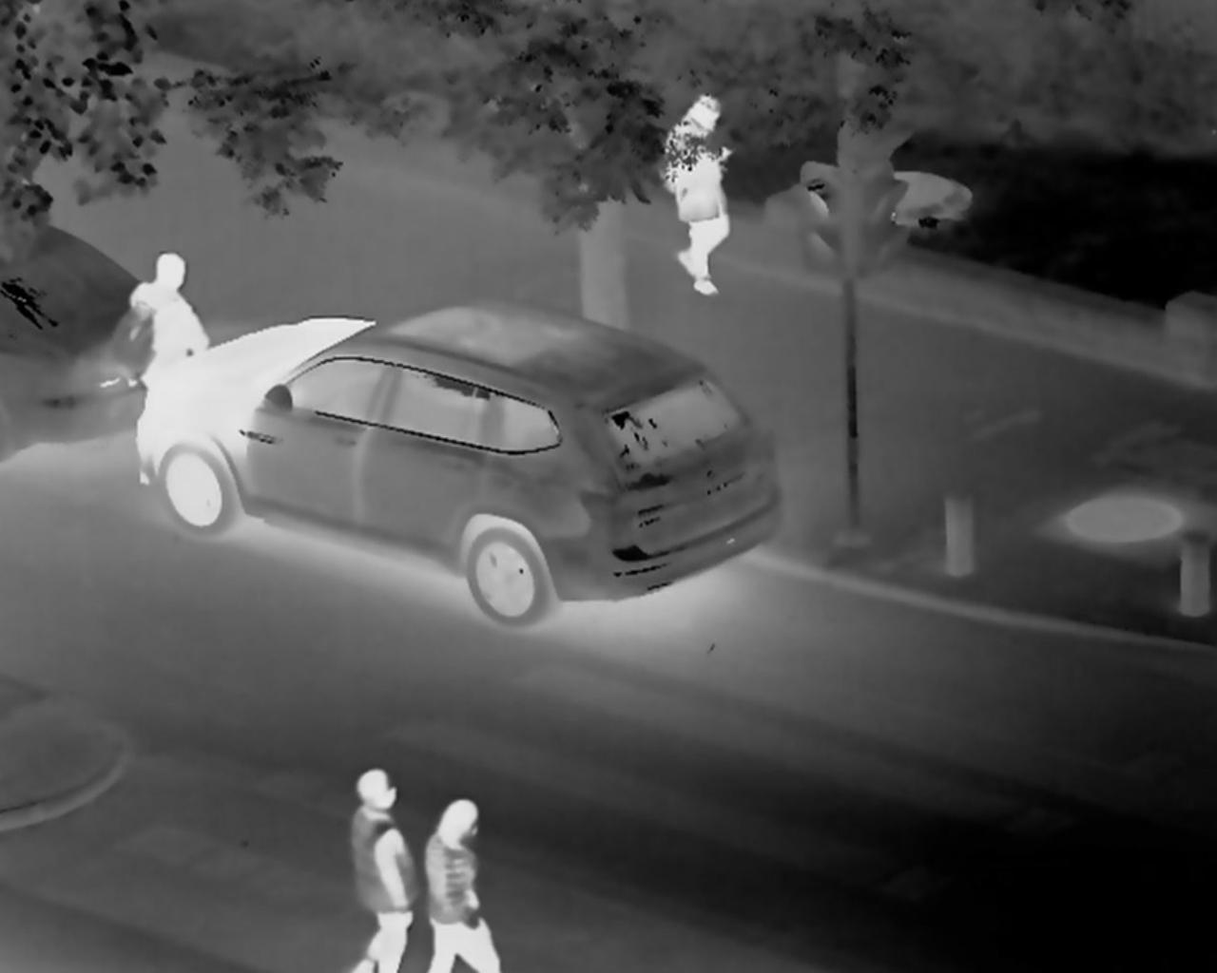person: (429, 780, 502, 973), (676, 100, 747, 291), (131, 229, 203, 395), (357, 754, 404, 973)
